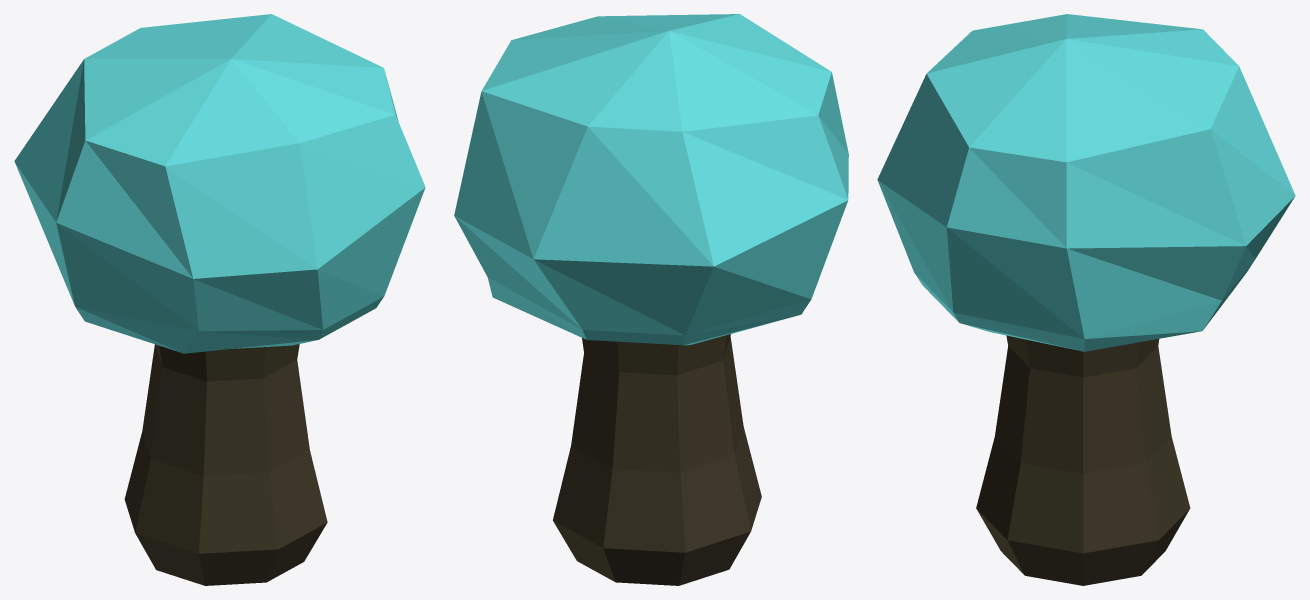
File: MiniChampi2.FBX
3 views of the same model, side by side, from view 1: azimuth 30°, elevation 25°; view 2: azimuth 150°, elevation 25°; view 3: azimuth 270°, elevation 25° (orthographic). The views are drawn at different scales.
Visible parts, largest first — view 1: Sphere002, Cylinder002; view 2: Sphere002, Cylinder002; view 3: Sphere002, Cylinder002.
Part boxes in pixels (box(x1,y1,x2,y2)): Sphere002: box(14, 14, 425, 353); Cylinder002: box(124, 344, 327, 585); Sphere002: box(454, 14, 848, 345); Cylinder002: box(553, 334, 761, 585); Sphere002: box(877, 14, 1295, 351); Cylinder002: box(976, 335, 1190, 585).
Bounding box in the file's own units: 0.1114 × 0.1585 × 0.1142.
